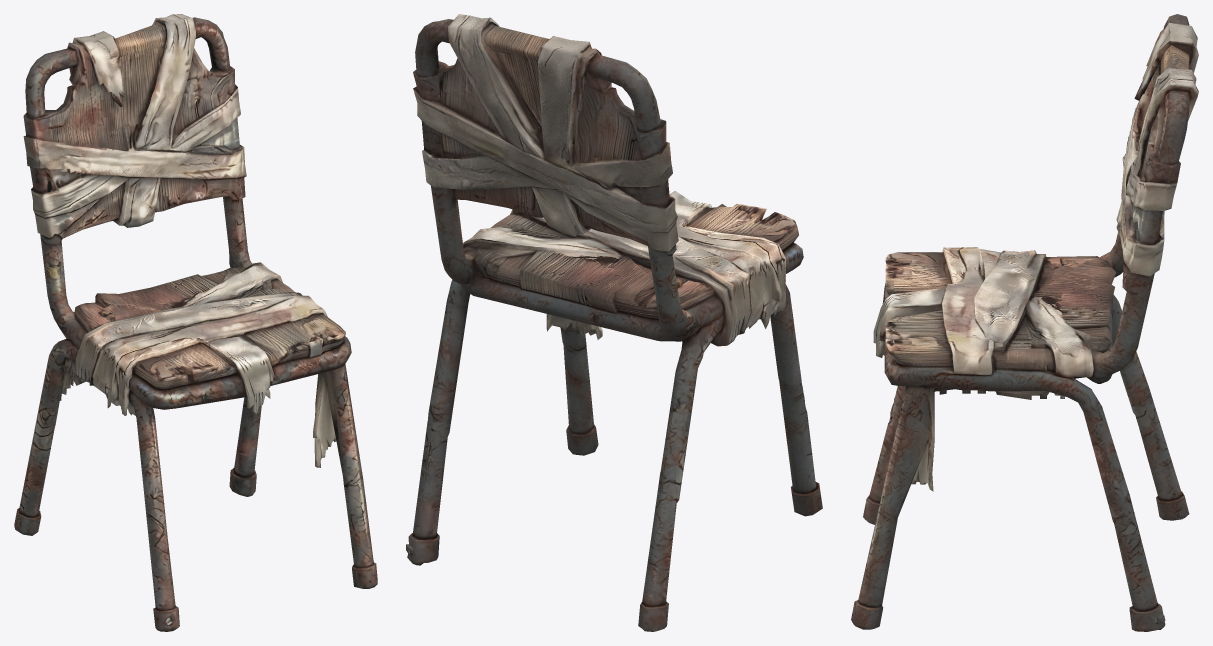
Rendered from base_basic_shaded(1).glb.
3 views of the same model, side by side, from view 1: azimuth 30°, elevation 25°; view 2: azimuth 150°, elevation 25°; view 3: azimuth 270°, elevation 25° (orthographic). The views are drawn at different scales.
Parts seen in each view (by area): view 1: model; view 2: model; view 3: model.
Boxes of the visible parts, x1,y1,x2,y2 form: model: (14,14,377,631); model: (406,14,822,631); model: (851,14,1198,631).
Bounding box in the file's own units: 0.9413 × 1.9 × 1.14.
1 material, 1 textured.
